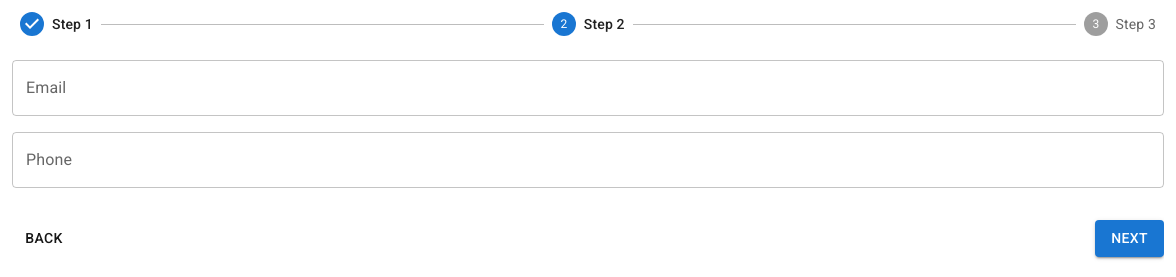
Test: StepperForm › Navigation › should navigate back on Back button click
Click the button "Back".
click(44, 238)  # box top-left (12, 220), bottom-right (76, 256)
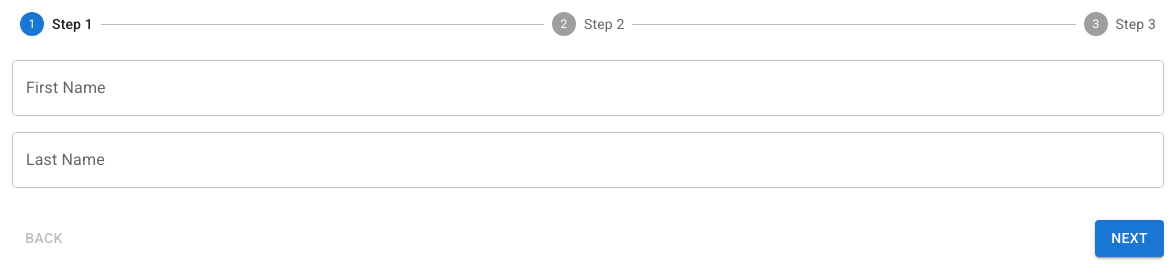
Result: the field labelled "First Name" is shown at top-left (12, 60), bottom-right (1164, 116)
